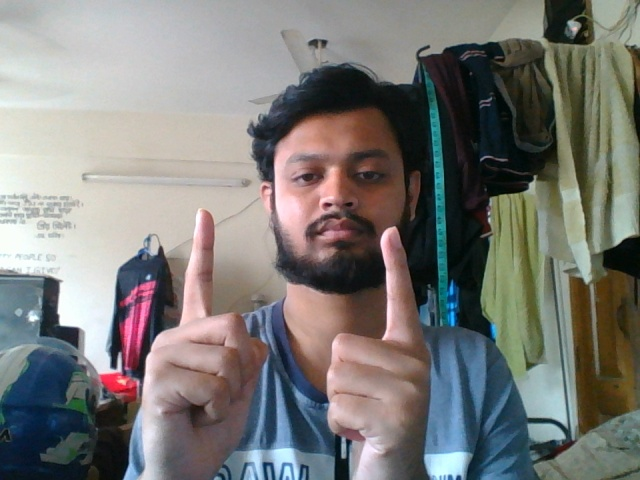ishara: (133, 203, 438, 480)
